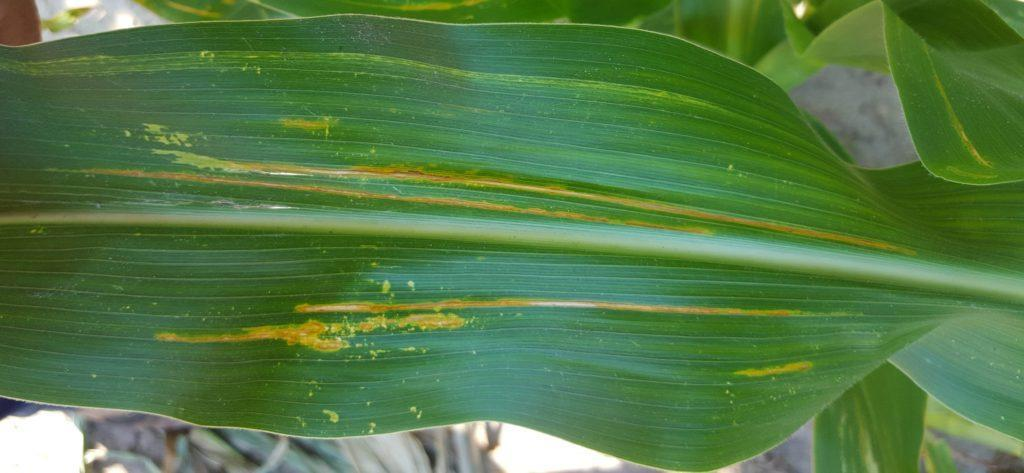Corn_Blight: (29, 113, 944, 264), (127, 268, 844, 359)
